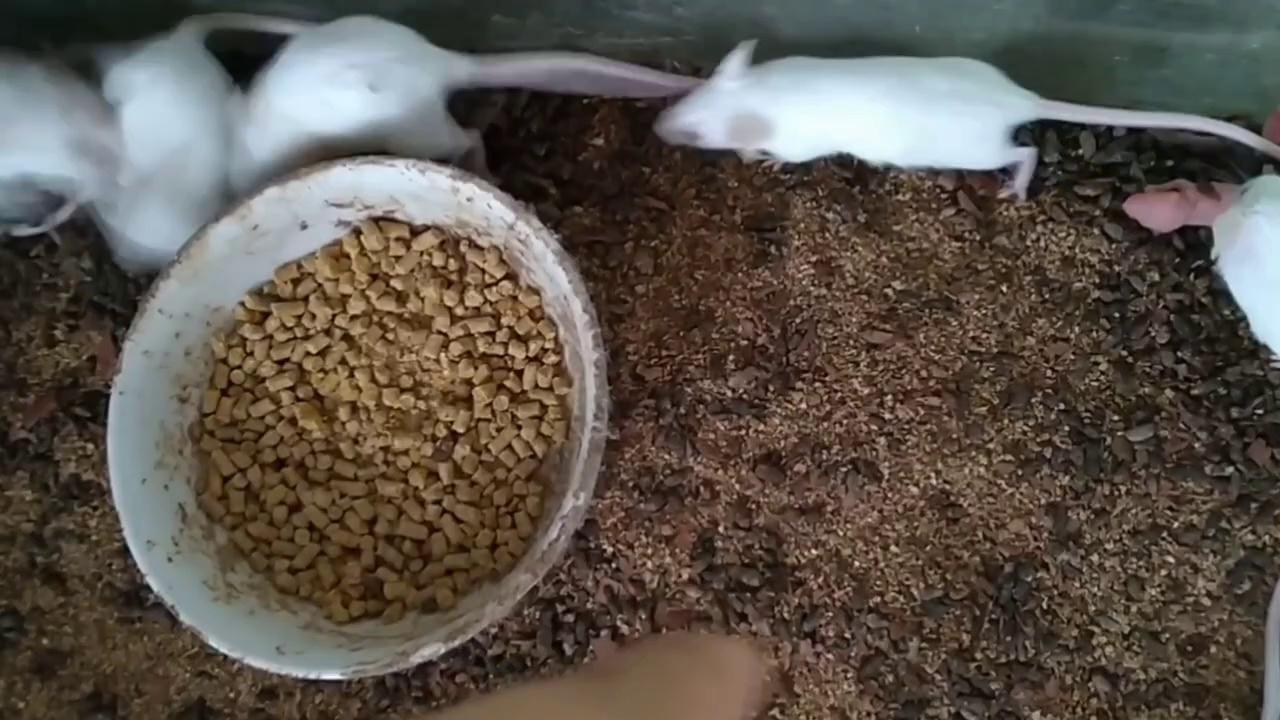rat: (655, 40, 1280, 200), (226, 2, 704, 194), (94, 12, 300, 278), (0, 56, 130, 198)
